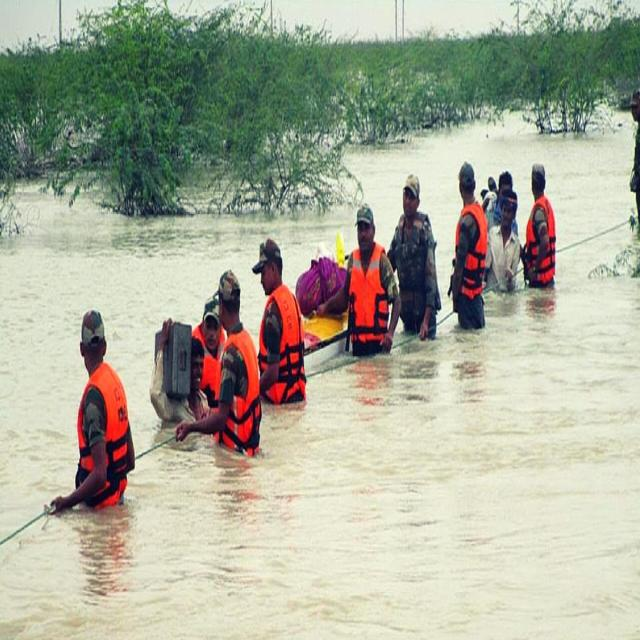rescuer: (74, 297, 129, 528), (247, 235, 308, 423), (216, 266, 260, 472), (340, 208, 396, 368), (450, 160, 491, 351), (524, 156, 560, 312)
